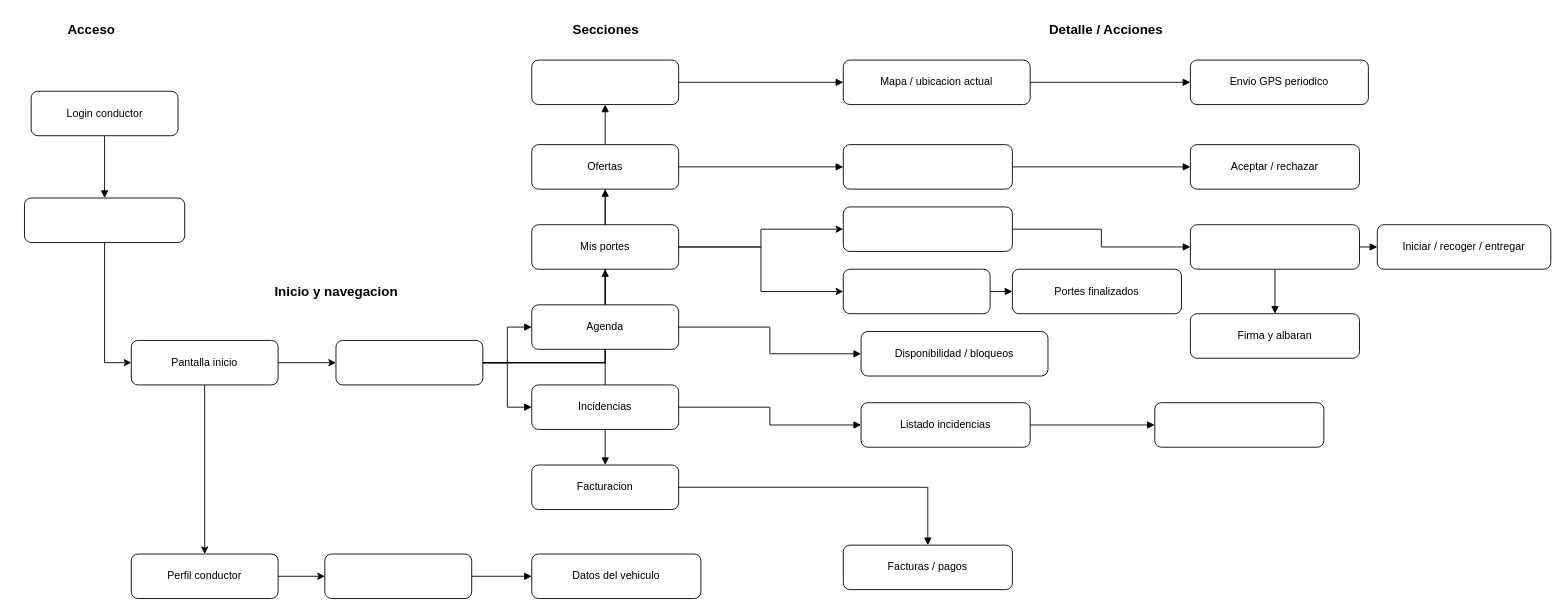
Some shapes in this 1566 by 614 pixel diagram are drawn without their labels. Here are the shapes that lost their labels. From the top down, the centre of each, then its label:
At [605,82]: "Tracking activo".
At [927,166]: "Detalle oferta".
At [104,220]: "Validar sesion / token".
At [927,228]: "Proximos / en curso".
At [1274,246]: "Detalle del porte".
At [916,291]: "Historial".
At [409,362]: "Panel de usuario".
At [1239,424]: "Crear incidencia".
At [398,576]: "Vehiculo".
